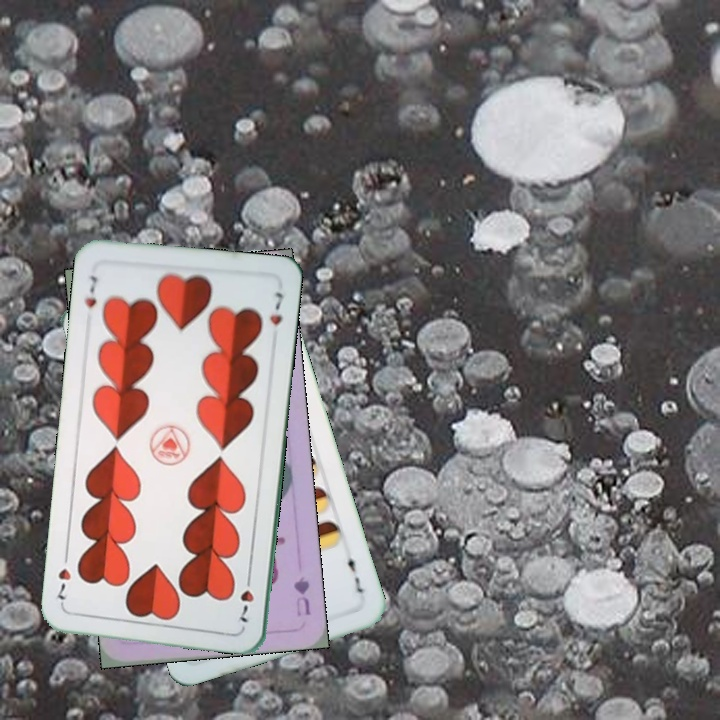E7: (343, 546, 366, 596)
GU: (289, 572, 313, 619)
H7: (233, 569, 256, 625), (79, 271, 100, 311)
